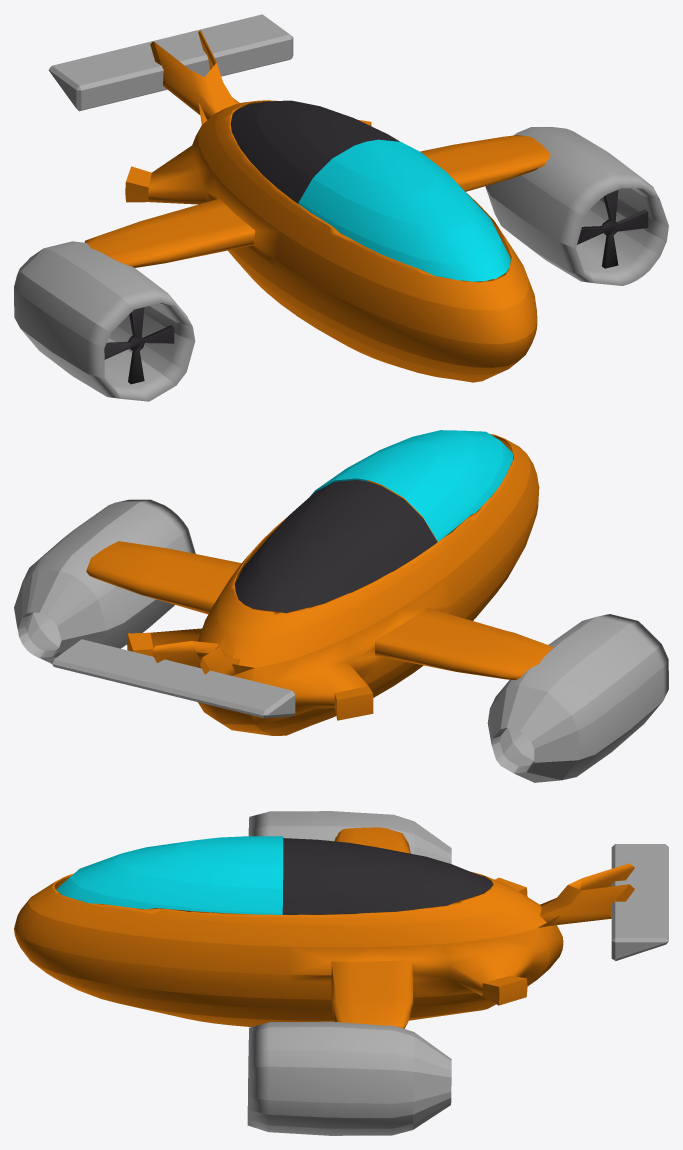
File: helicopter_3.fbx
3 views of the same model, one above another, from view 1: azimuth 30°, elevation 25°; view 2: azimuth 150°, elevation 25°; view 3: azimuth 270°, elevation 25° (orthographic). The views are drawn at different scales.
Visible parts, largest first — view 1: polySurface2453; view 2: polySurface2453; view 3: polySurface2453.
Part boxes in pixels (x1,y1,x2,y2): polySurface2453: (14, 14, 668, 401); polySurface2453: (14, 430, 668, 782); polySurface2453: (14, 811, 668, 1135).
Size of the model in its own units: 513 by 168 by 550.
